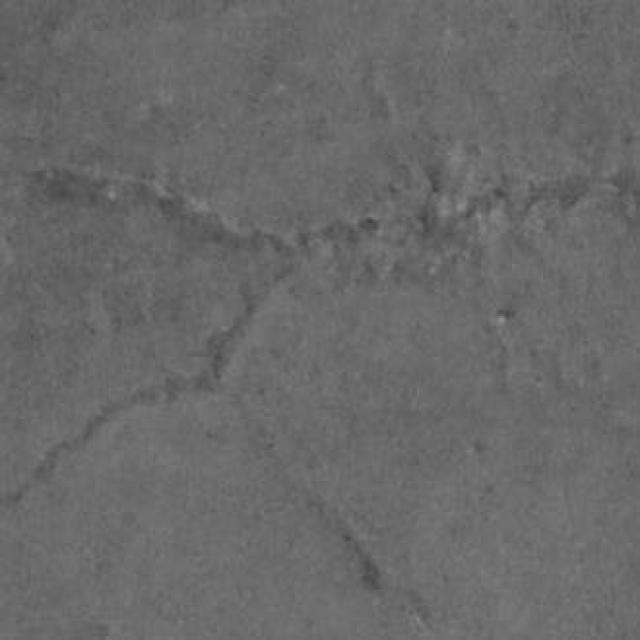crack: (0, 272, 288, 511), (29, 165, 372, 275), (0, 375, 191, 510)
